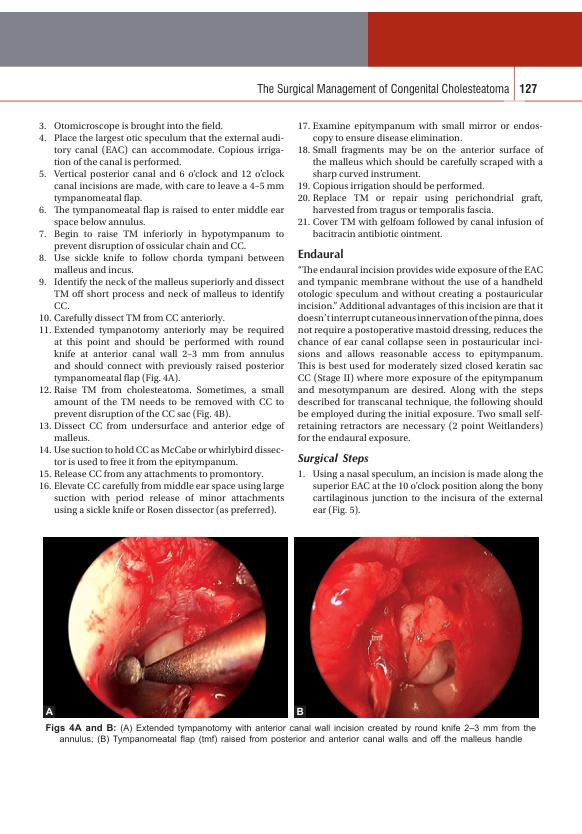caption: (44, 721, 537, 746), (45, 707, 54, 716), (296, 707, 304, 716)
header: (255, 82, 511, 97)
image: (293, 536, 539, 719), (43, 536, 289, 718)
list: (35, 117, 286, 517), (295, 119, 545, 241), (297, 468, 545, 517)
section-heading: (296, 247, 345, 260)
sub-section-heading: (297, 451, 370, 466)
text: (295, 264, 544, 444)
